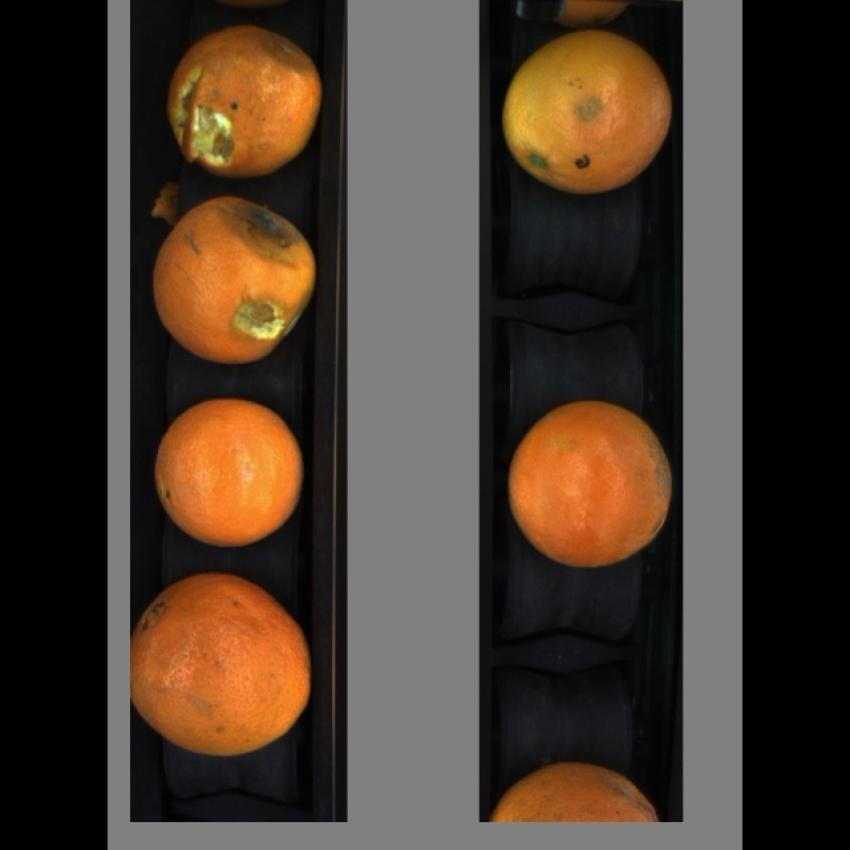Buen estado: (146, 394, 310, 554)
Mal estado: (131, 576, 318, 763), (146, 188, 320, 370), (500, 31, 678, 204), (506, 397, 680, 571), (162, 24, 326, 182), (490, 748, 669, 826)
